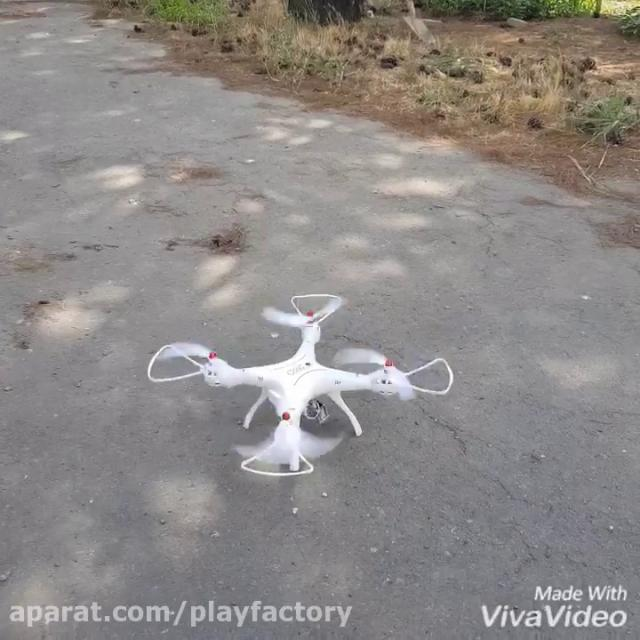drone: (144, 288, 456, 479)
